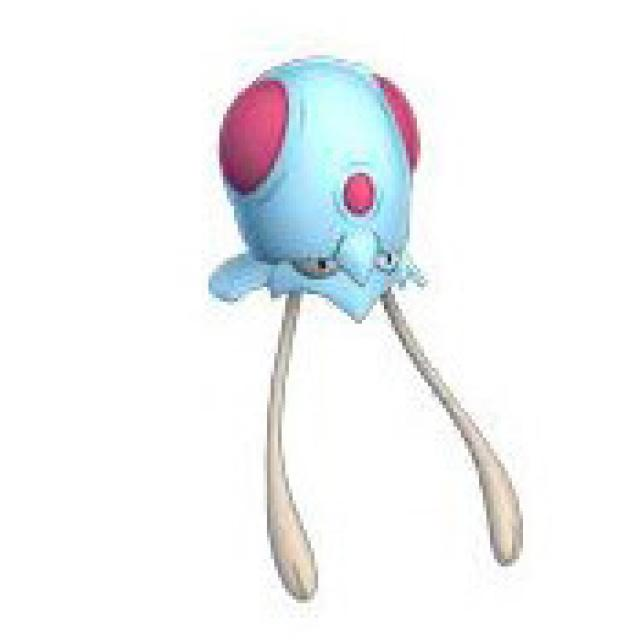Tentacool: (196, 37, 453, 372)
